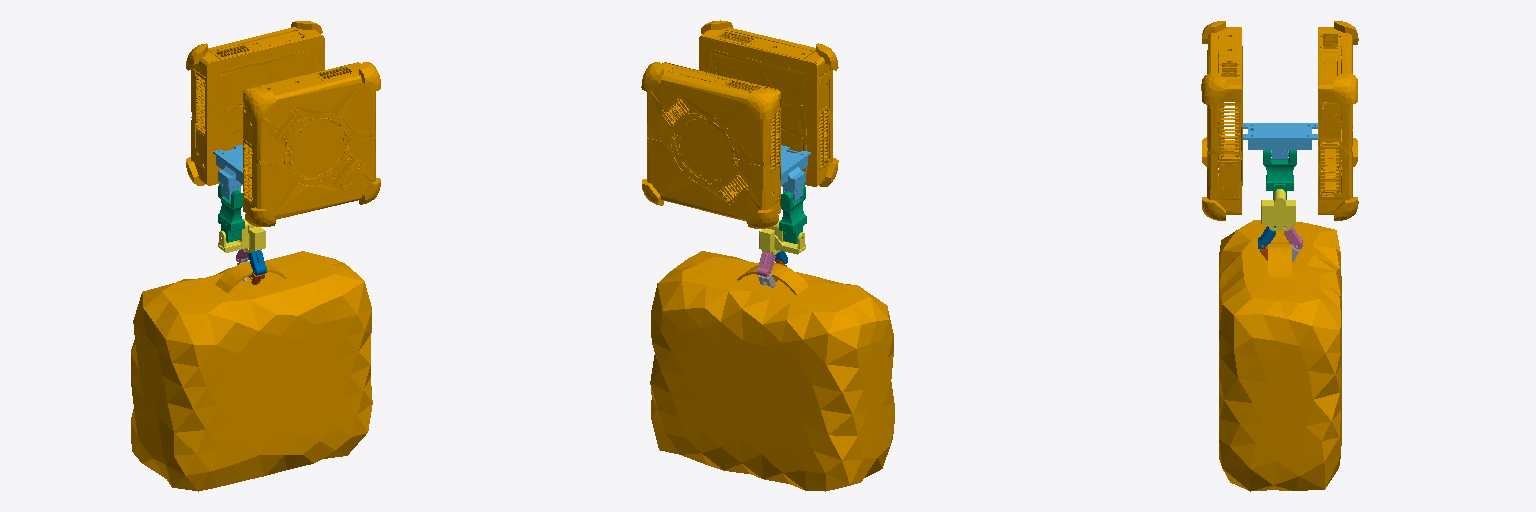
The robot description file, URDF, robot "astrobee":
<?xml version="1.0" ?>

<!-- This is a modified version of astrobee.urdf (which itself was a modification of the original NASA urdf) -->
<!-- At the end of the file, you can find an additional link/joint corresponding to a rigid cargo bag -->
<!-- Note: many of the parameters for this bag link may need some tuning to be close to accurate -->

<robot name="astrobee">
  <!-- BASE GEOMETRY -->
  <link name="honey_body">
    <self_collide>false</self_collide>
    <!-- body -->
    <visual name="body_visual">
      <origin rpy="0 0 0" xyz="0 0 0"/>
      <geometry>
        <mesh filename="../meshes/astrobee/body.obj"/>
      </geometry>
    </visual>
    <collision name="body_collision">
      <origin rpy="0 0 0" xyz="-0.000794 0.000229 -0.003907"/>
      <geometry>
        <box size="0.290513 0.151942 0.281129"/>
      </geometry>
    </collision>
    <inertial>
      <mass value="9.0877"/>
      <origin xyz="0 0 0"/>
      <inertia ixx="0.1454" ixy="0.0" ixz="0.0" iyy="0.1366" iyz="0.0" izz="0.1594"/>
    </inertial>
    <!-- port pmc -->
    <visual name="pmc_port_visual">
      <origin rpy="0 0 0" xyz="0 0 0"/>
      <geometry>
        <mesh filename="../meshes/astrobee/pmc.obj"/>
      </geometry>
    </visual>
    <visual name="pmc_port_bumper_visual">
      <origin rpy="0 0 0" xyz="0 0 0"/>
      <geometry>
        <mesh filename="../meshes/astrobee/pmc_bumper.obj"/>
      </geometry>
    </visual>
    <visual name="pmc_port_skin_visual">
      <origin rpy="0 0 0" xyz="0 0 0"/>
      <geometry>
        <mesh filename="../meshes/astrobee/pmc_skin_honey.obj"/>
      </geometry>
    </visual>
    <collision name="pmc_port_collision">
      <origin rpy="0 0 0" xyz="0 -0.117546 0"/>
      <geometry>
        <box size="0.319199 0.083962 0.319588"/>
      </geometry>
    </collision>
    <!-- starboard pmc -->
    <visual name="pmc_stbd_visual">
      <origin rpy="0 3.14 3.14" xyz="0 0 0"/>
      <geometry>
        <mesh filename="../meshes/astrobee/pmc.obj"/>
      </geometry>
    </visual>
    <visual name="pmc_stbd_bumper_visual">
      <origin rpy="0 3.14 3.14" xyz="0 0 0"/>
      <geometry>
        <mesh filename="../meshes/astrobee/pmc_bumper.obj"/>
      </geometry>
    </visual>
    <visual name="pmc_stbd_skin_visual">
      <origin rpy="0 3.14 3.14" xyz="0 0 0"/>
      <geometry>
        <mesh filename="../meshes/astrobee/pmc_skin_honey.obj"/>
      </geometry>
    </visual>
    <collision name="pmc_stbd_collision">
      <origin rpy="0 0 0" xyz="0 0.117546 0"/>
      <geometry>
        <box size="0.319199 0.083962 0.319588"/>
      </geometry>
    </collision>
  </link>
  <link name="honey_top_aft">
    <self_collide>false</self_collide>
    <inertial>
      <origin rpy="0 0 0" xyz="0 0 0"/>
      <mass value="0.3078"/>
      <inertia ixx="0.02705" ixy="0.0" ixz="0.0" iyy="0.02705" iyz="0.0" izz="0.02705"/>
    </inertial>
    <visual>
      <origin rpy="0 0 0" xyz="0 0 0"/>
      <geometry>
        <mesh filename="../meshes/astrobee/base_link.obj"/>
      </geometry>
    </visual>
    <collision>
      <origin rpy="0 0 0" xyz="0 -0.038125 0"/>
      <geometry>
        <box size="0.090441 0.152400 0.076250"/>
      </geometry>
    </collision>
  </link>
  <joint name="top_aft" type="fixed">
    <origin rpy="0.0 3.1415 0.0" xyz="-0.01 0.0 -0.065"/>
    <parent link="honey_body"/>
    <child link="honey_top_aft"/>
  </joint>
  <link name="honey_top_aft_arm_proximal_link">
    <self_collide>false</self_collide>
    <inertial>
      <origin rpy="0 0 0" xyz="0 0 0"/>
      <mass value="0.1623"/>
      <inertia ixx="0.02705" ixy="0.0" ixz="0.0" iyy="0.02705" iyz="0.0" izz="0.02705"/>
    </inertial>
    <visual>
      <origin rpy="0 0 0" xyz="0 0 0"/>
      <geometry>
        <mesh filename="../meshes/astrobee/arm_proximal_link.obj"/>
      </geometry>
    </visual>
    <collision>
      <origin rpy="0 0 0" xyz="-0.049625 -0.0022 0"/>
      <geometry>
        <box size="0.123250 0.068000 0.042400"/>
      </geometry>
    </collision>
  </link>
  <joint name="top_aft_arm_proximal_joint" type="revolute">
    <origin rpy="0 1.57079632679 0" xyz="0.11945 0 0.065"/>
    <parent link="honey_top_aft"/>
    <child link="honey_top_aft_arm_proximal_link"/>
    <axis xyz="0 -1 0"/>
    <limit effort="1.0" lower="-2.0944" upper="1.57079" velocity="0.12"/>
  </joint>
  <link name="honey_top_aft_arm_distal_link">
    <self_collide>false</self_collide>
    <inertial>
      <origin rpy="0 0 0" xyz="0 0 0"/>
      <mass value="0.1033"/>
      <inertia ixx="0.002705" ixy="0.0" ixz="0.0" iyy="0.002705" iyz="0.0" izz="0.002705"/>
    </inertial>
    <visual>
      <origin rpy="0 0 0" xyz="0 0 0"/>
      <geometry>
        <mesh filename="../meshes/astrobee/arm_distal_link.obj"/>
      </geometry>
    </visual>
    <collision>
      <origin rpy="0 0 0" xyz="0 0 -0.02"/>
      <geometry>
        <box size="0.075000 0.070000 0.087400"/>
      </geometry>
    </collision>
  </link>
  <joint name="top_aft_arm_distal_joint" type="revolute">
    <origin rpy="0 0 0" xyz="-0.1 0 0"/>
    <parent link="honey_top_aft_arm_proximal_link"/>
    <child link="honey_top_aft_arm_distal_link"/>
    <axis xyz="0 0 1"/>
    <limit effort="1.0" lower="-1.57079" upper="1.57079" velocity="0.12"/>
  </joint>
  <link name="honey_top_aft_gripper_left_proximal_link">
    <self_collide>false</self_collide>
    <inertial>
      <origin rpy="0 0 0" xyz="0 0 0"/>
      <mass value="0.04"/>
      <inertia ixx="0.002705" ixy="0.0" ixz="0.0" iyy="0.002705" iyz="0.0" izz="0.002705"/>
    </inertial>
    <visual>
      <origin rpy="0 0 0" xyz="0 0 0"/>
      <geometry>
        <mesh filename="../meshes/astrobee/gripper_left_proximal_link.obj"/>
      </geometry>
    </visual>
    <collision>
      <origin rpy="0 0 0" xyz="-0.025547 0 -0.000875"/>
      <geometry>
        <box size="0.067654 0.021750 0.025400"/>
      </geometry>
    </collision>
  </link>
  <joint name="top_aft_gripper_left_proximal_joint" type="revolute">
    <origin rpy="0 0 0" xyz="-0.039 -0.010002 -0.0497"/>
    <parent link="honey_top_aft_arm_distal_link"/>
    <child link="honey_top_aft_gripper_left_proximal_link"/>
    <axis xyz="0 0 1"/>
    <limit effort="0.1" lower="0.349066" upper="0.698132" velocity="0.12"/>
  </joint>
  <link name="honey_top_aft_gripper_left_distal_link">
    <self_collide>false</self_collide>
    <inertial>
      <origin rpy="0 0 0" xyz="0 0 0"/>
      <mass value="0.0116026396896178"/>
      <inertia ixx="0.002705" ixy="0.0" ixz="0.0" iyy="0.002705" iyz="0.0" izz="0.002705"/>
    </inertial>
    <visual>
      <origin rpy="0 0 0" xyz="0 0 0"/>
      <geometry>
        <mesh filename="../meshes/astrobee/gripper_left_distal_link.obj"/>
      </geometry>
    </visual>
    <collision>
      <origin rpy="0 0 0" xyz="-0.021524 0 -0.000875"/>
      <geometry>
        <box size="0.056953 0.021750 0.025400"/>
      </geometry>
    </collision>
  </link>
  <joint name="top_aft_gripper_left_distal_joint" type="revolute">
    <origin rpy="0 0 0" xyz="-0.05 0 0"/>
    <parent link="honey_top_aft_gripper_left_proximal_link"/>
    <child link="honey_top_aft_gripper_left_distal_link"/>
    <axis xyz="0 0 1"/>
    <limit effort="0.1" lower="-1.22173" upper="-0.69813" velocity="0.12"/>
  </joint>
  <link name="honey_top_aft_gripper_right_proximal_link">
    <self_collide>false</self_collide>
    <inertial>
      <origin rpy="0 0 0" xyz="0 0 0"/>
      <mass value="0.04"/>
      <inertia ixx="0.002705" ixy="0.0" ixz="0.0" iyy="0.002705" iyz="0.0" izz="0.002705"/>
    </inertial>
    <visual>
      <origin rpy="0 0 0" xyz="0 0 0"/>
      <geometry>
        <mesh filename="../meshes/astrobee/gripper_right_proximal_link.obj"/>
      </geometry>
    </visual>
    <collision>
      <origin rpy="0 0 0" xyz="-0.025547 0 0.000875"/>
      <geometry>
        <box size="0.067654 0.021750 0.025400"/>
      </geometry>
    </collision>
  </link>
  <joint name="top_aft_gripper_right_proximal_joint" type="revolute">
    <origin rpy="0 0 0" xyz="-0.039 0.010002 -0.0497"/>
    <parent link="honey_top_aft_arm_distal_link"/>
    <child link="honey_top_aft_gripper_right_proximal_link"/>
    <axis xyz="0 0 1"/>
    <limit effort="0.1" lower="-0.698132" upper="-0.349066" velocity="0.12"/>
  </joint>
  <link name="honey_top_aft_gripper_right_distal_link">
    <self_collide>false</self_collide>
    <inertial>
      <origin rpy="0 0 0" xyz="0 0 0"/>
      <mass value="0.02285"/>
      <inertia ixx="0.002705" ixy="0.0" ixz="0.0" iyy="0.002705" iyz="0.0" izz="0.002705"/>
    </inertial>
    <visual>
      <origin rpy="0 0 0" xyz="0 0 0"/>
      <geometry>
        <mesh filename="../meshes/astrobee/gripper_right_distal_link.obj"/>
      </geometry>
    </visual>
    <collision>
      <origin rpy="0 0 0" xyz="-0.021512 0 0.000875"/>
      <geometry>
        <box size="0.056894 0.021750 0.025400"/>
      </geometry>
    </collision>
  </link>
  <joint name="top_aft_gripper_right_distal_joint" type="revolute">
    <origin rpy="0 0 0" xyz="-0.05 0 0"/>
    <parent link="honey_top_aft_gripper_right_proximal_link"/>
    <child link="honey_top_aft_gripper_right_distal_link"/>
    <axis xyz="0 0 1"/>
    <limit effort="0.1" lower="0.69813" upper="1.22173" velocity="0.12"/>
  </joint>
  <!-- Adding a rigid bag onto the gripper -->
  <link name="bag">
    <!-- TODO check on all parameters: these may need some tuning -->
    <self_collide>false</self_collide>
    <inertial>
      <!-- This origin position "looked correct" -->
      <origin rpy="0 0 0" xyz="0 0 -0.25"/>
      <!-- Mass is just a random guess, inertia is based on rectangular prism dimensions -->
      <mass value="10.0"/>
      <inertia ixx="0.19990833" ixy="0.0" ixz="0.0" iyy="0.35533333" iyz="0.0" izz="0.26041666"/>
    </inertial>
    <visual>
      <origin rpy="0 0 0" xyz="0 0 -0.25"/>
      <geometry>
        <mesh filename="../meshes/bags/obj/top_handle_bag.obj"/>
      </geometry>
    </visual>
    <collision>
      <origin rpy="0 0 0" xyz="0 0 -0.25"/>
      <geometry>
        <!-- Box size is from the original bag CAD model -->
        <box size="0.50 0.25 0.42"/>
      </geometry>
    </collision>
  </link>
  <joint name="bag_joint" type="fixed">
    <!-- Joint position is from the calibrated distal/gripper transform -->
    <origin rpy="0 1.57079632679 0" xyz="-0.08240211 0 -0.04971851"/>
    <parent link="honey_top_aft_arm_distal_link"/>
    <child link="bag"/>
  </joint>
</robot>

--- What the picture shows (computed from the rendered views, not written in the file) ---
3 views of the same robot in one strip: view 1: azimuth 30°, elevation 25°; view 2: azimuth 150°, elevation 25°; view 3: azimuth 270°, elevation 25° (orthographic).
Robot: astrobee — 9 links, 8 joints (6 revolute, 2 fixed); root link honey_body; default pose: joints at zero except 4 at the middle of their limits (top_aft_gripper_left_proximal_joint = 0.5236, top_aft_gripper_left_distal_joint = -0.9599, top_aft_gripper_right_proximal_joint = -0.5236, top_aft_gripper_right_distal_joint = 0.9599).
Links seen in each view (by area): view 1: bag, honey_body, honey_top_aft, honey_top_aft_arm_proximal_link, honey_top_aft_arm_distal_link; view 2: bag, honey_body, honey_top_aft, honey_top_aft_arm_proximal_link, honey_top_aft_arm_distal_link; view 3: bag, honey_body, honey_top_aft, honey_top_aft_arm_distal_link, honey_top_aft_arm_proximal_link.
Boxes of the visible links, box(x1,y1,x2,y2) form: bag: box(131, 251, 372, 491); honey_body: box(186, 21, 380, 226); honey_top_aft: box(213, 145, 242, 200); honey_top_aft_arm_proximal_link: box(218, 183, 244, 242); honey_top_aft_arm_distal_link: box(218, 219, 265, 252); bag: box(650, 251, 894, 491); honey_body: box(641, 20, 838, 228); honey_top_aft: box(781, 145, 810, 201); honey_top_aft_arm_proximal_link: box(779, 184, 806, 243); honey_top_aft_arm_distal_link: box(759, 220, 805, 254); bag: box(1219, 220, 1341, 491); honey_body: box(1201, 21, 1358, 220); honey_top_aft: box(1243, 123, 1317, 159); honey_top_aft_arm_distal_link: box(1261, 189, 1295, 230); honey_top_aft_arm_proximal_link: box(1263, 150, 1296, 199).
Size in the robot's own frame: 0.5 by 0.3192 by 0.9322 metres.
Meshes: 12 distinct files referenced, 14 mesh visuals loaded (11 OBJ); not drawn: 1 (reference not matched to a file when rendering).